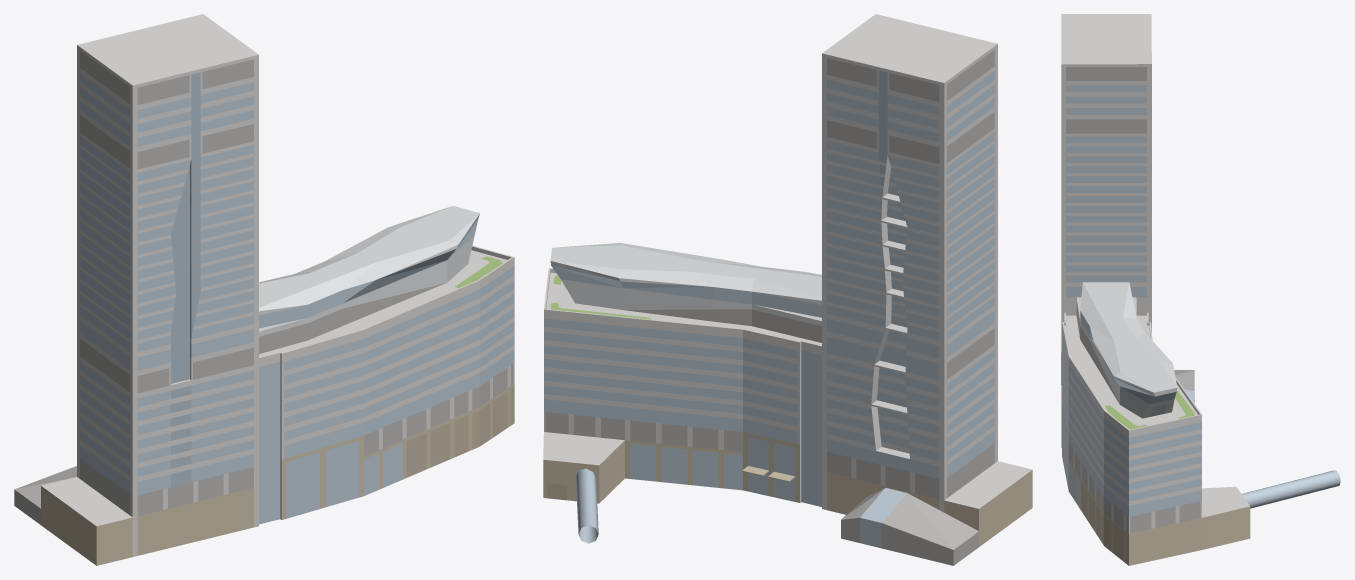
The picture shows the model from 3 angles, left to right: view 1: azimuth 30°, elevation 25°; view 2: azimuth 150°, elevation 25°; view 3: azimuth 270°, elevation 25°; orthographic projection. The views are drawn at different scales.
Visible parts, largest first — view 1: 70000001084889903lod; view 2: 70000001084889903lod; view 3: 70000001084889903lod.
Boxes of the visible parts, x1,y1,x2,y2 form: 70000001084889903lod: (14, 14, 514, 565); 70000001084889903lod: (543, 14, 1032, 565); 70000001084889903lod: (1061, 14, 1340, 565).
Bounding box in the file's own units: 138 × 136 × 89.54.
1 material, 1 textured.
